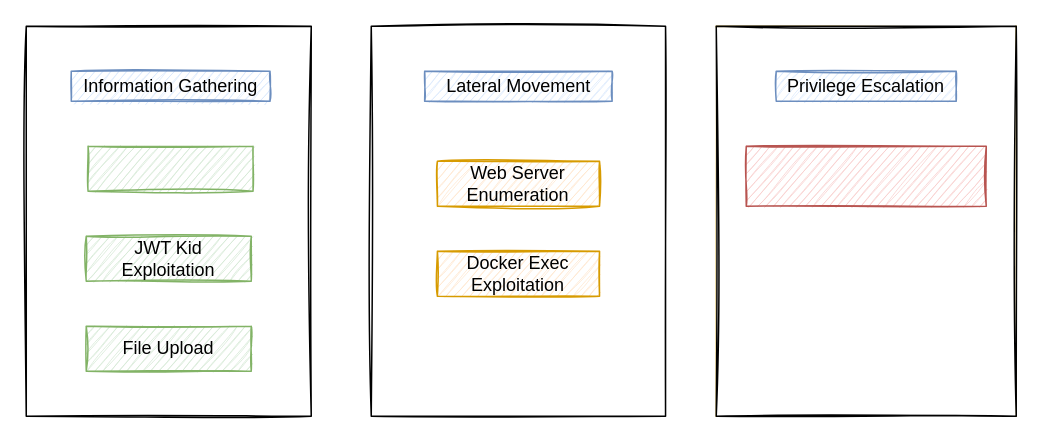
Image size: 1043x443. Some labels were removed from this diagram. The shapes that lost their labels are listed below. From the top down, each one's centre as x and y in pixels, then its label:
At point 170,168: "Web Enumeration".
At point 865,175: "Docker Breakout using Docker Exec".
